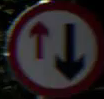Two way: (18, 14, 88, 82)
